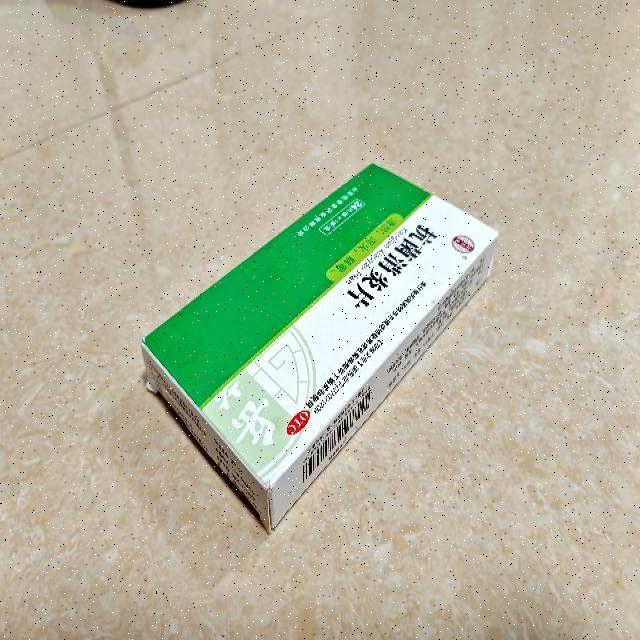box: (142, 162, 498, 534)
